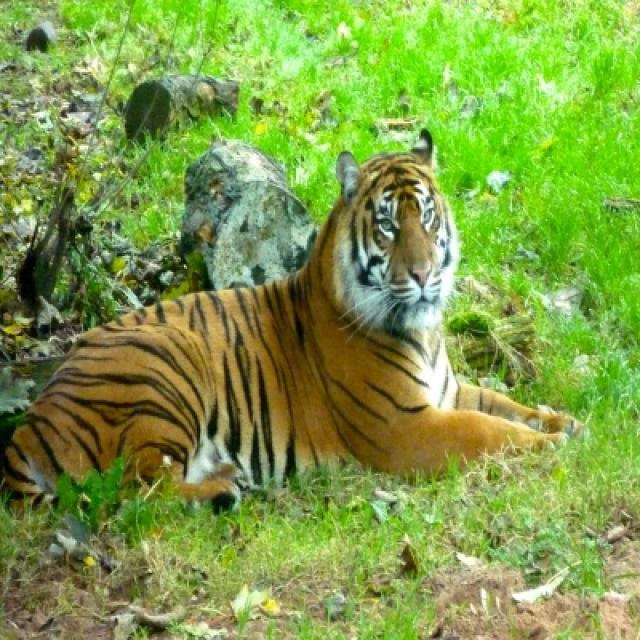Tiger: (10, 127, 582, 506)
